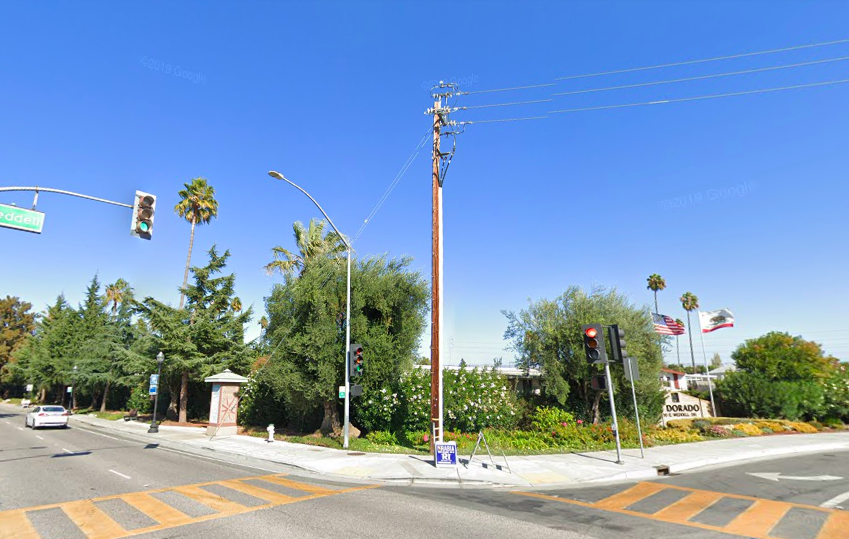utility_pole: (410, 72, 475, 184)
